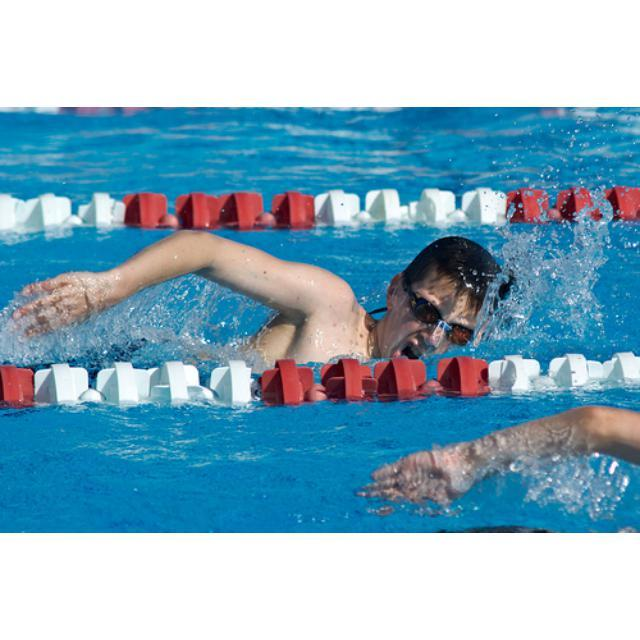human: (17, 218, 499, 369)
